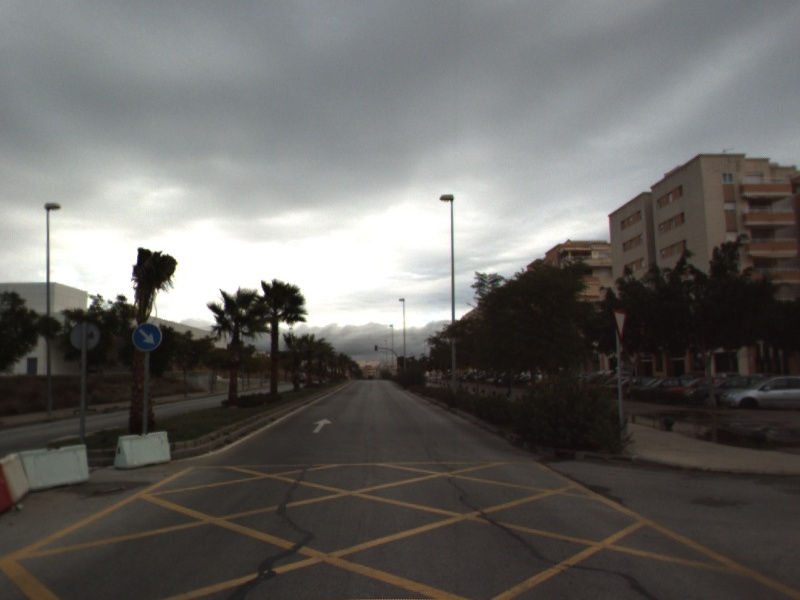STRAIGHT: (310, 416, 334, 435)
